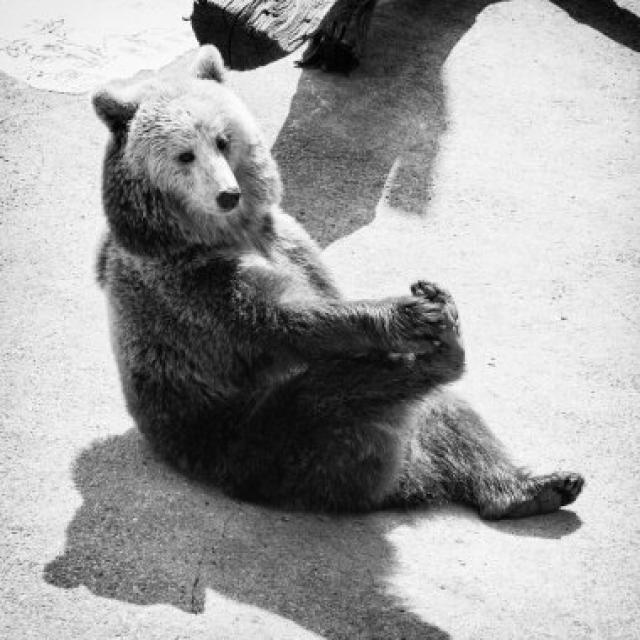Animal: (82, 66, 592, 532)
